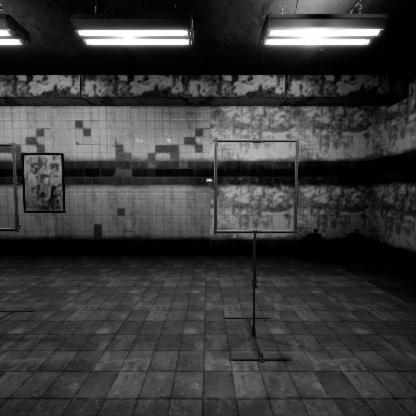gate: (214, 181, 306, 277)
